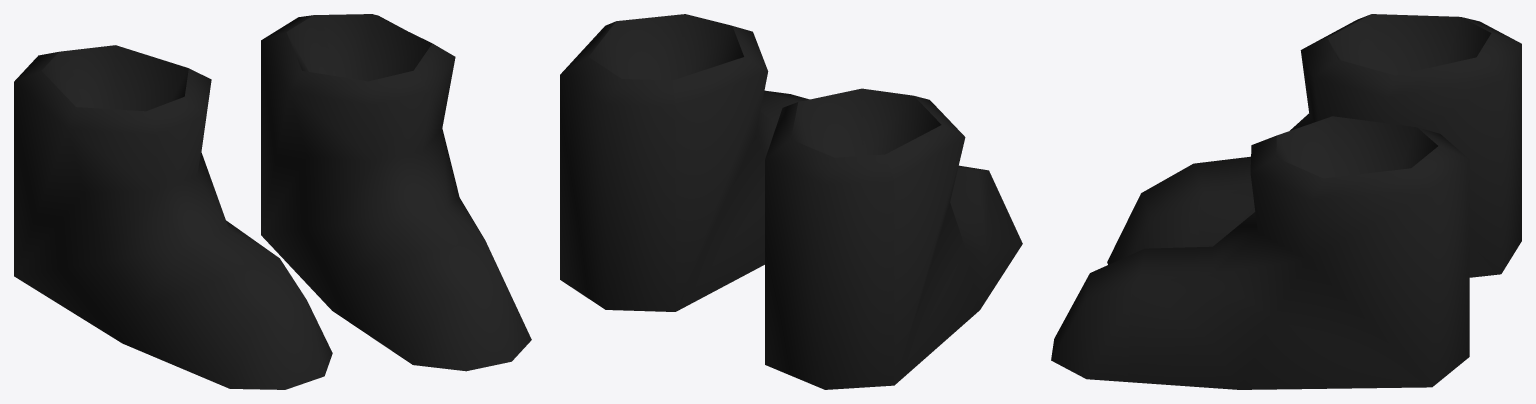
Rendered from clothes_040.glb.
The picture shows the model from 3 angles, left to right: view 1: azimuth 30°, elevation 25°; view 2: azimuth 150°, elevation 25°; view 3: azimuth 270°, elevation 25°; orthographic projection. The views are drawn at different scales.
Parts seen in each view (by area): view 1: clothes_040; view 2: clothes_040; view 3: clothes_040.
Part boxes in pixels (left/top/right/bottom): clothes_040: left=14, top=14, right=531, bottom=389; clothes_040: left=560, top=14, right=1022, bottom=389; clothes_040: left=1051, top=14, right=1521, bottom=389.
Bounding box in the file's own units: 0.2669 × 0.1462 × 0.2943.
1 material, 1 textured.
